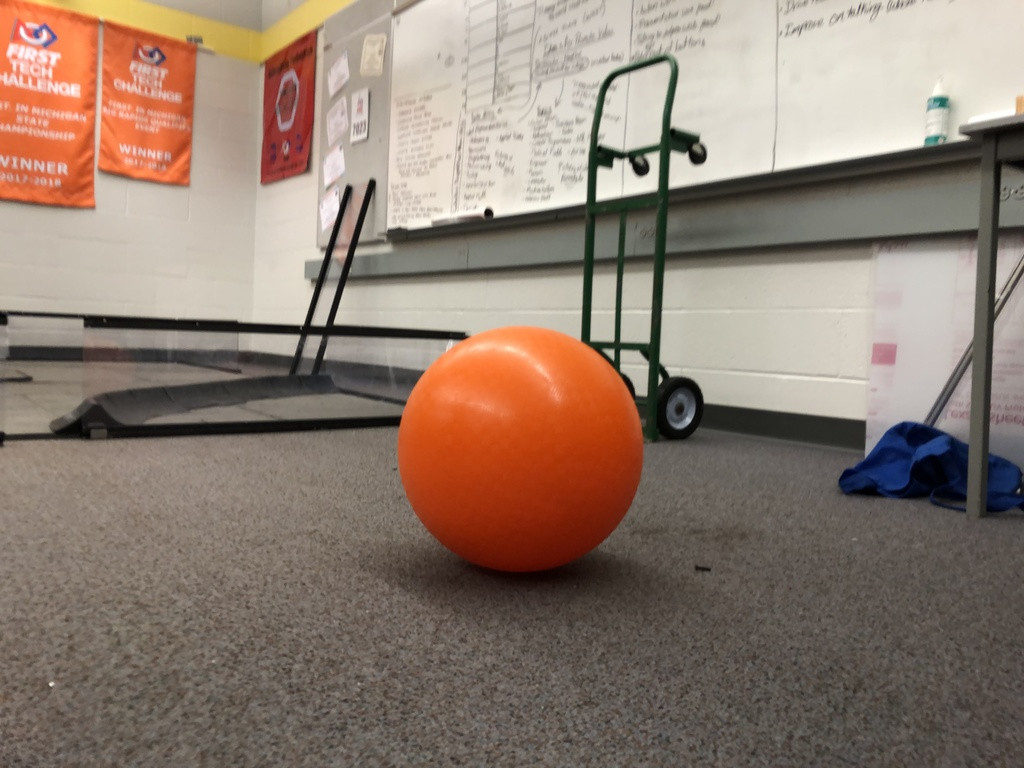cargo: (396, 318, 649, 581)
